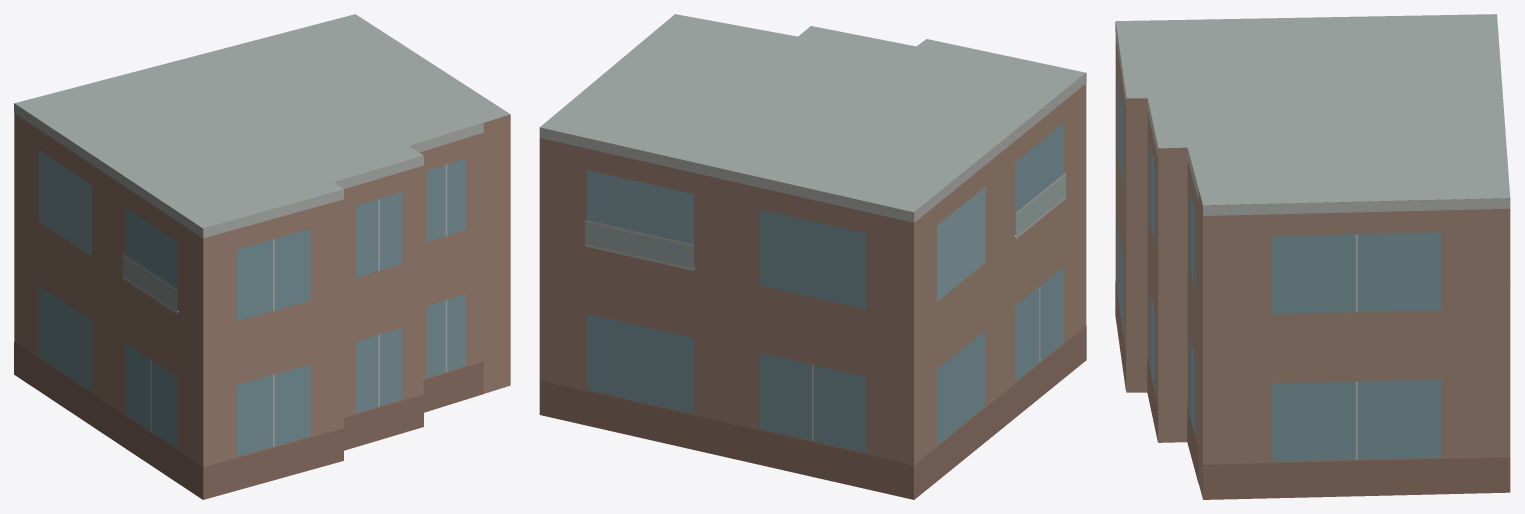
Rendered from survey-upis-32500781.glb.
3 renders of one model, left to right at view 1: azimuth 30°, elevation 25°; view 2: azimuth 150°, elevation 25°; view 3: azimuth 270°, elevation 25°, orthographic. The views are drawn at different scales.
Parts seen in each view (by area): view 1: survey-upis-32500781.tmp; view 2: survey-upis-32500781.tmp; view 3: survey-upis-32500781.tmp.
Boxes of the visible parts, box(x1,y1,x2,y2) form: survey-upis-32500781.tmp: box(14, 14, 510, 499); survey-upis-32500781.tmp: box(539, 14, 1086, 499); survey-upis-32500781.tmp: box(1115, 14, 1510, 499).
Bounding box in the file's own units: 9.34 × 6.7 × 8.15.
